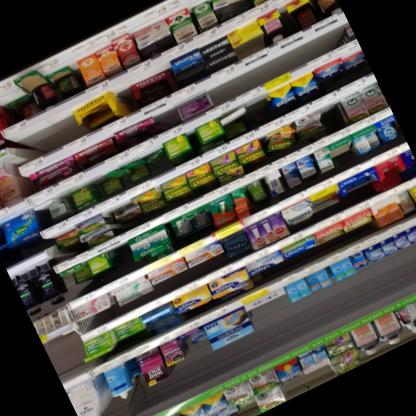empty_space: (246, 284, 296, 329), (29, 113, 68, 154), (206, 67, 248, 103), (309, 22, 345, 56), (325, 132, 360, 166), (245, 52, 280, 84), (278, 38, 311, 70), (107, 240, 137, 273), (241, 93, 272, 123)
